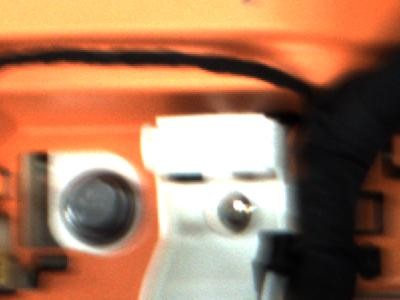nut_b: (60, 164, 144, 244)
